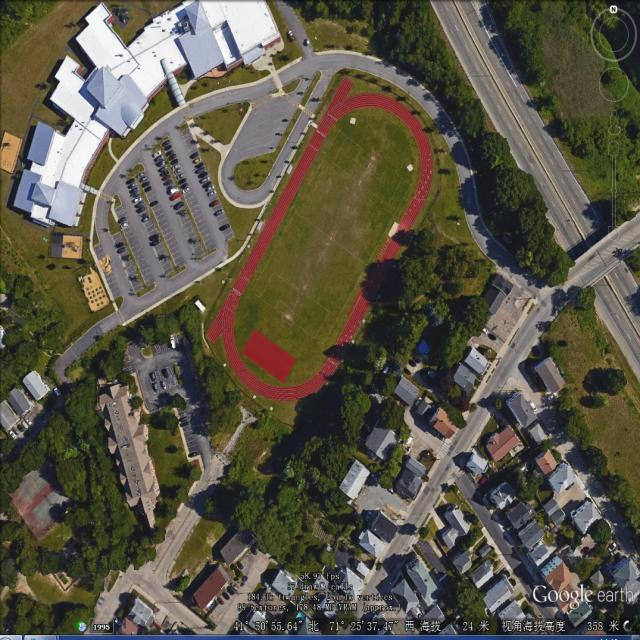playground: (203, 76, 436, 405)
